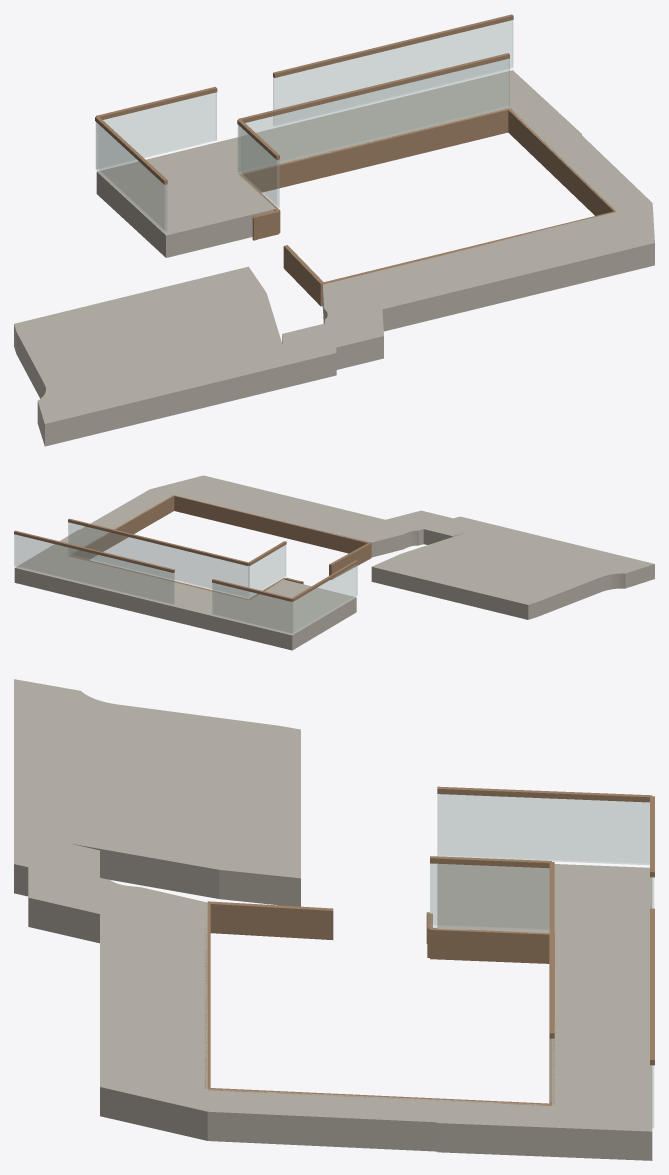
Rendered from PERIMETER_797_r002.glb.
3 renders of one model, top to bottom at view 1: azimuth 30°, elevation 25°; view 2: azimuth 150°, elevation 25°; view 3: azimuth 270°, elevation 25°, orthographic. The views are drawn at different scales.
Visible parts, largest first — view 1: G2P_797_TERRACE_r002, G2P_797_RearGuardGlass_0, G2P_797_OuterGuard_2, G2P_797_PitEdge_2_0, G2P_797_OuterGuard_1, G2P_797_OuterGuard_0, G2P_797_PitEdge_1_0, G2P_797_RearGuardGlass_1, G2P_797_RearGuardRail_0, G2P_797_OuterRail_2, G2P_797_PitEdge_5_0, G2P_797_OuterRail_1 (+1 smaller); view 2: G2P_797_TERRACE_r002, G2P_797_RearGuardGlass_0, G2P_797_OuterGuard_2, G2P_797_PitEdge_0_0, G2P_797_OuterGuard_1, G2P_797_OuterGuard_0, G2P_797_PitEdge_1_0, G2P_797_RearGuardGlass_1, G2P_797_RearGuardRail_0, G2P_797_OuterRail_2, G2P_797_PitEdge_5_0, G2P_797_OuterRail_1 (+2 smaller); view 3: G2P_797_TERRACE_r002, G2P_797_OuterGuard_0, G2P_797_RearGuardGlass_1, G2P_797_PitEdge_5_0, G2P_797_PitEdge_3_0, G2P_797_OuterRail_0, G2P_797_RearGuardRail_0, G2P_797_PitEdge_0_0, G2P_797_RearGuardRail_1, G2P_797_PitEdge_1_0, G2P_797_OuterRail_2.
Part boxes in pixels (x1,y1,x2,y2): G2P_797_TERRACE_r002: [14, 70, 654, 446]; G2P_797_RearGuardGlass_0: [239, 58, 509, 172]; G2P_797_OuterGuard_2: [273, 20, 512, 125]; G2P_797_PitEdge_2_0: [239, 108, 508, 192]; G2P_797_OuterGuard_1: [96, 92, 216, 169]; G2P_797_OuterGuard_0: [96, 122, 166, 232]; G2P_797_PitEdge_1_0: [507, 108, 615, 215]; G2P_797_RearGuardGlass_1: [238, 125, 279, 208]; G2P_797_RearGuardRail_0: [238, 53, 509, 122]; G2P_797_OuterRail_2: [273, 14, 513, 77]; G2P_797_PitEdge_5_0: [283, 245, 323, 306]; G2P_797_OuterRail_1: [96, 86, 217, 119]; G2P_797_TERRACE_r002: [14, 475, 654, 650]; G2P_797_RearGuardGlass_0: [68, 522, 249, 597]; G2P_797_OuterGuard_2: [14, 534, 174, 604]; G2P_797_PitEdge_0_0: [173, 495, 371, 557]; G2P_797_OuterGuard_1: [212, 583, 292, 633]; G2P_797_OuterGuard_0: [291, 564, 357, 633]; G2P_797_PitEdge_1_0: [68, 495, 174, 559]; G2P_797_RearGuardGlass_1: [248, 545, 285, 597]; G2P_797_RearGuardRail_0: [68, 518, 249, 565]; G2P_797_OuterRail_2: [14, 530, 174, 572]; G2P_797_PitEdge_5_0: [329, 543, 371, 579]; G2P_797_OuterRail_1: [212, 579, 292, 601]; G2P_797_TERRACE_r002: [14, 679, 652, 1160]; G2P_797_OuterGuard_0: [437, 794, 649, 864]; G2P_797_RearGuardGlass_1: [430, 863, 549, 930]; G2P_797_PitEdge_5_0: [207, 901, 333, 939]; G2P_797_PitEdge_3_0: [430, 927, 549, 963]; G2P_797_OuterRail_0: [437, 786, 652, 802]; G2P_797_RearGuardRail_0: [549, 862, 554, 1038]; G2P_797_PitEdge_0_0: [204, 902, 210, 1088]; G2P_797_RearGuardRail_1: [430, 856, 551, 868]; G2P_797_PitEdge_1_0: [208, 1088, 551, 1105]; G2P_797_OuterRail_2: [650, 908, 654, 1065].
Bounding box in the file's own units: 14.93 × 1.55 × 8.93.
